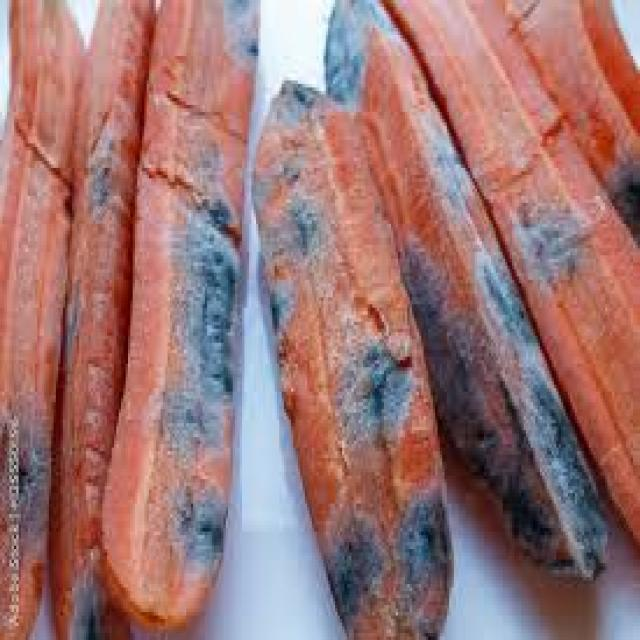Stale_Carrot: (320, 2, 609, 640), (245, 80, 444, 640), (125, 0, 259, 621)
